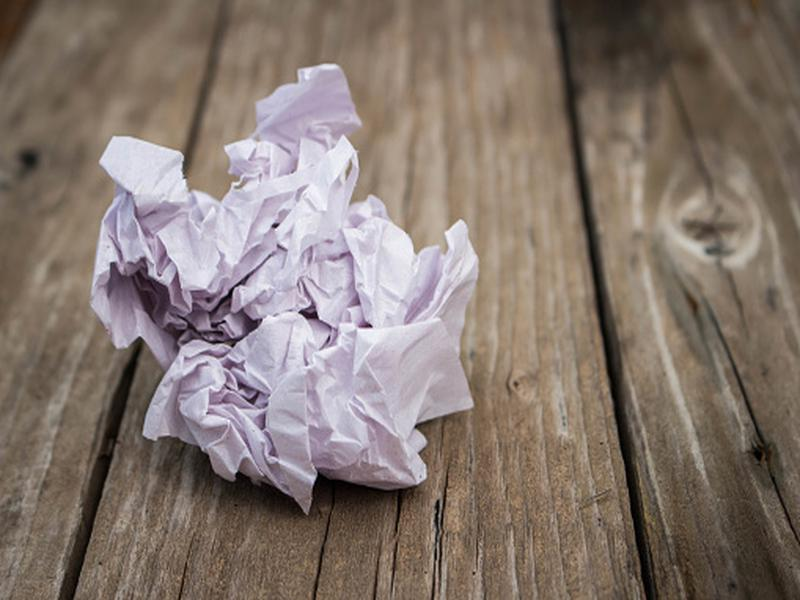paper: (89, 58, 497, 530)
